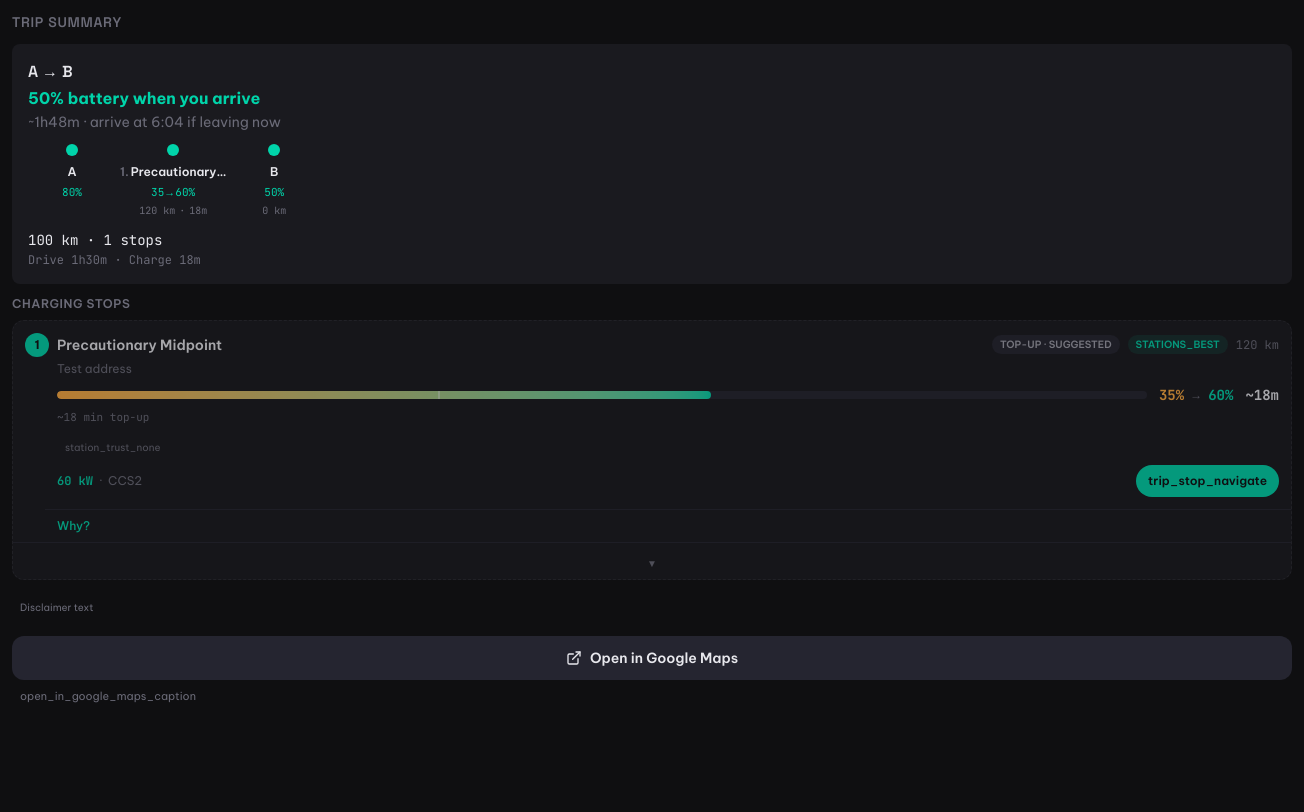
Test: TripSummary — precautionary stops › reveals the sparse reason copy
Step 1. Click the button "Why?" → (74, 526), box [57,518,90,534]
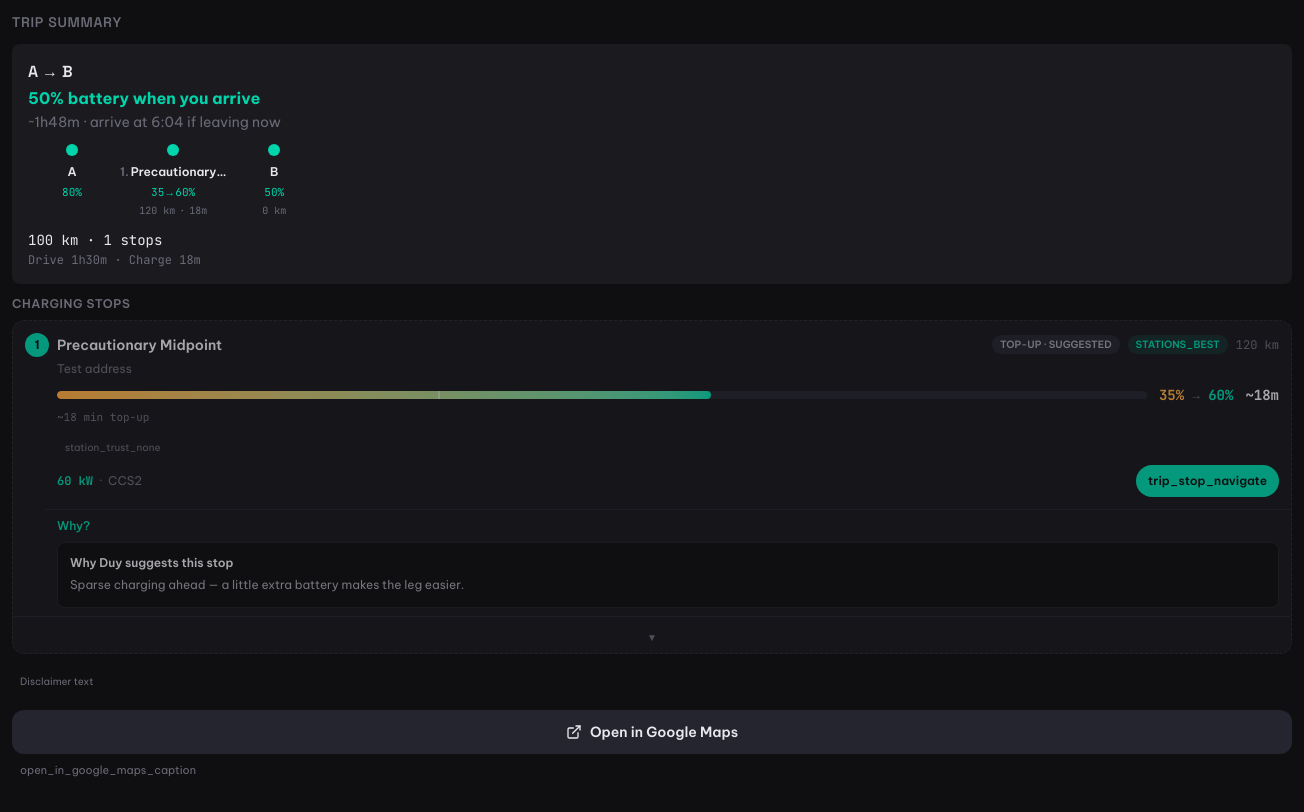
Now the text "Why Duy suggests this stop" is shown, box [70,555,233,570]
Now the text "Sparse charging ahead — a little extra battery makes the leg easier." is shown, box [70,577,464,592]
